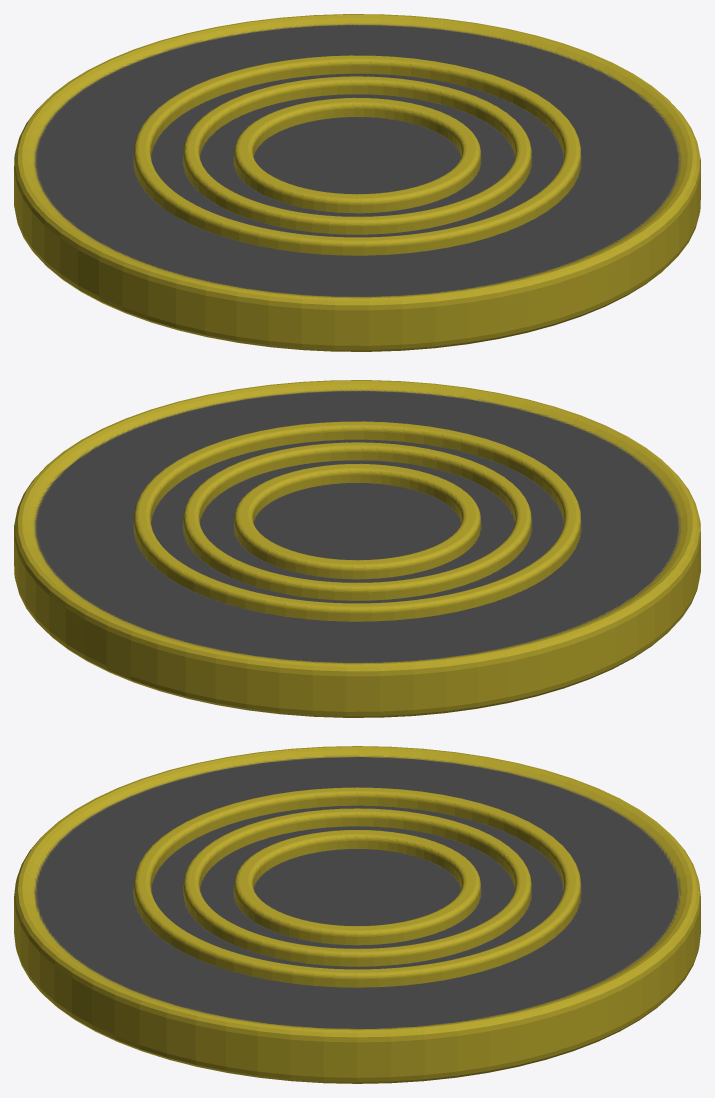
File: Coin 1.fbx
The picture shows the model from 3 angles, top to bottom: view 1: azimuth 30°, elevation 25°; view 2: azimuth 150°, elevation 25°; view 3: azimuth 270°, elevation 25°; orthographic projection.
Visible parts, largest first — view 1: Cylinder; view 2: Cylinder; view 3: Cylinder.
Boxes of the visible parts, box(x1,y1,x2,y2) form: Cylinder: box(14, 14, 700, 351); Cylinder: box(14, 380, 700, 717); Cylinder: box(14, 746, 700, 1083).
Size of the model in its own units: 213 by 23.73 by 213.
Materials: 1 (1 with a texture image).
